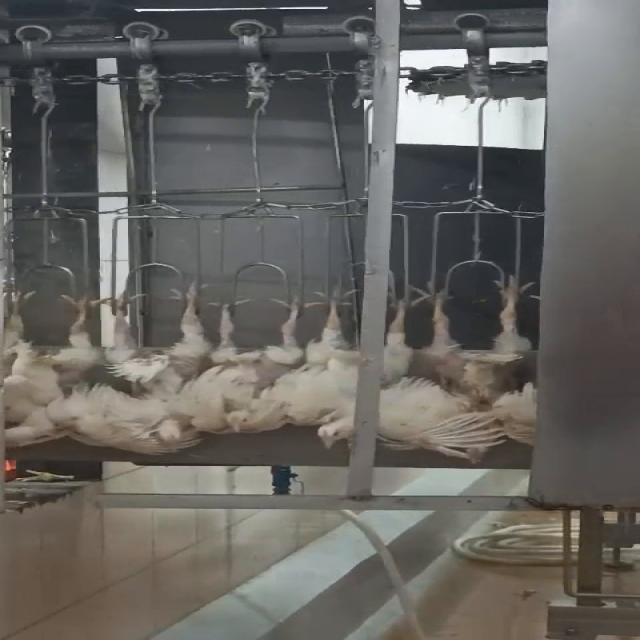chicken: (370, 274, 500, 462), (414, 269, 542, 425), (198, 289, 326, 439), (100, 284, 208, 454), (0, 286, 101, 449), (310, 276, 366, 455)
